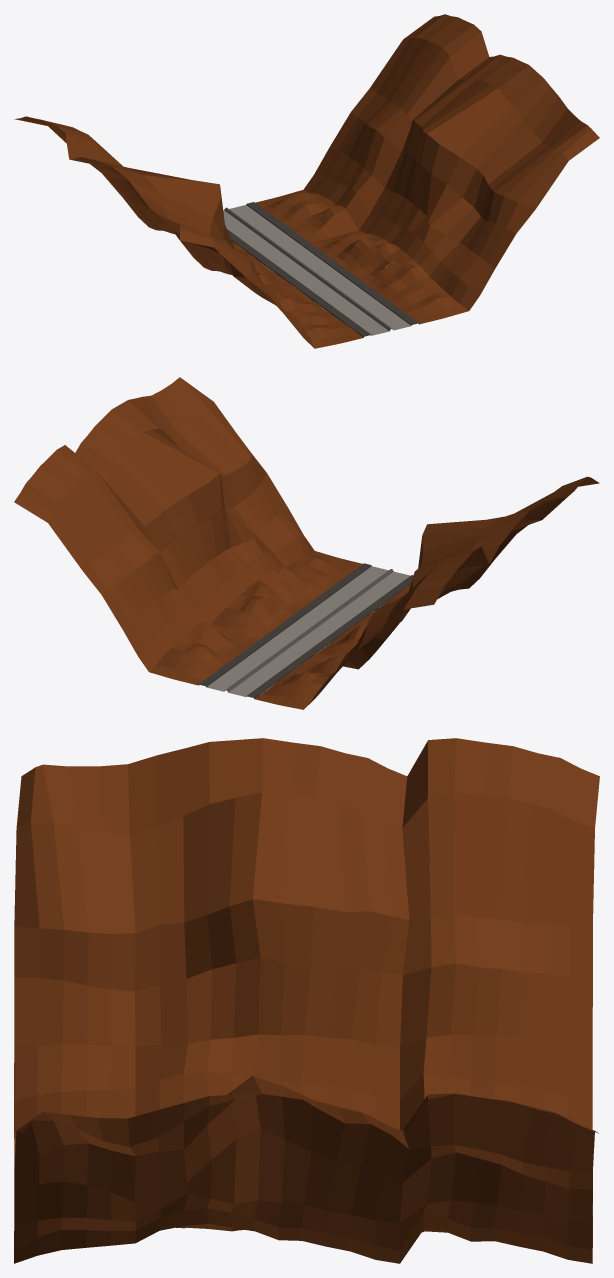
3 renders of one model, top to bottom at view 1: azimuth 30°, elevation 25°; view 2: azimuth 150°, elevation 25°; view 3: azimuth 270°, elevation 25°, orthographic. The views are drawn at different scales.
Parts seen in each view (by area): view 1: Plane.001, Plane, Plane.002; view 2: Plane.002, Plane, Plane.001; view 3: Plane.002, Plane, Plane.001.
Boxes of the visible parts, x1,y1,x2,y2 form: Plane.001: (128,78,599,348); Plane: (14,14,489,257); Plane.002: (70,54,543,298); Plane.002: (75,400,543,662); Plane: (14,445,488,709); Plane.001: (128,377,599,619); Plane.002: (207,738,409,1263); Plane: (400,738,599,1263); Plane.001: (14,742,211,1263).
Bounding box in the file's own units: 64.31 × 23.92 × 44.52.
Materials: 1 (1 with a texture image).
